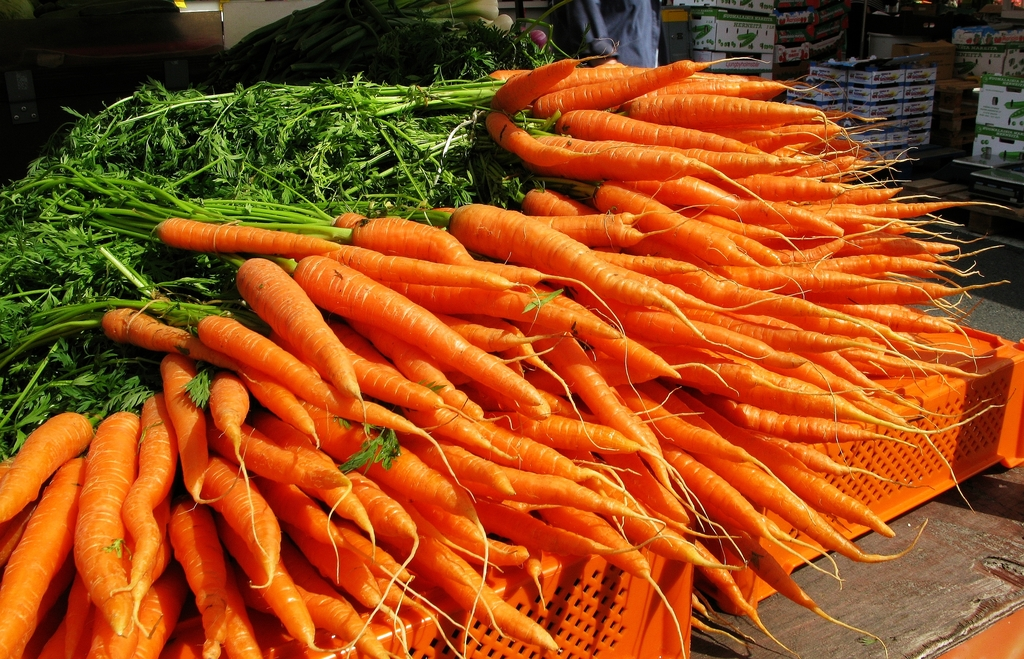Carrot: (0, 35, 1013, 659)
